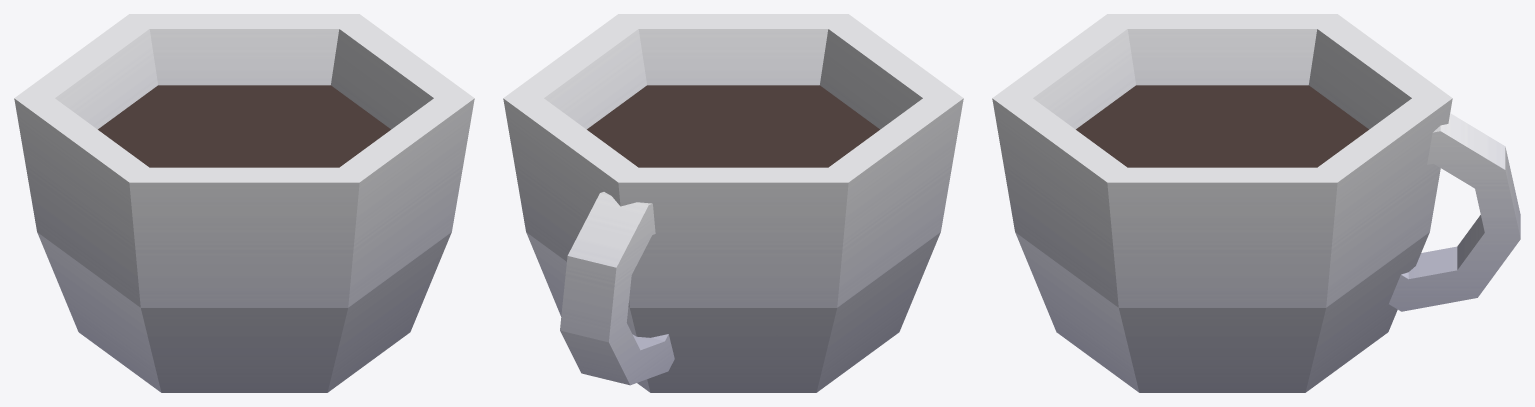
The model's file is CupCoffeeKenney.obj.
3 views of the same model, side by side, from view 1: azimuth 30°, elevation 25°; view 2: azimuth 150°, elevation 25°; view 3: azimuth 270°, elevation 25° (orthographic).
Parts seen in each view (by area): view 1: cup_coffee; view 2: cup_coffee; view 3: cup_coffee.
Boxes of the visible parts, x1,y1,x2,y2 form: cup_coffee: [14, 14, 474, 392]; cup_coffee: [503, 14, 963, 392]; cup_coffee: [992, 14, 1520, 392].
Size of the model in its own units: 0.0757 by 0.049 by 0.1003.
Materials: 1 (1 with a texture image).
